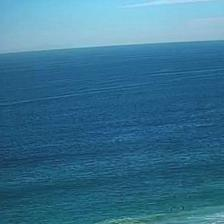surfer: (188, 195, 192, 199), (182, 206, 185, 210), (169, 208, 173, 211), (172, 206, 176, 209), (174, 195, 176, 198)
